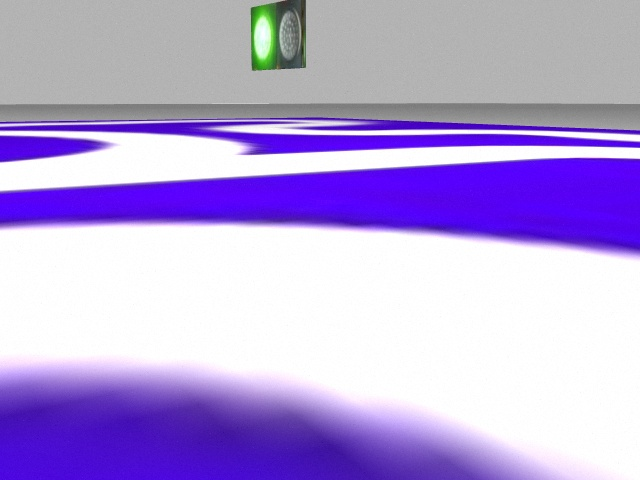green: (252, 6, 275, 68)
